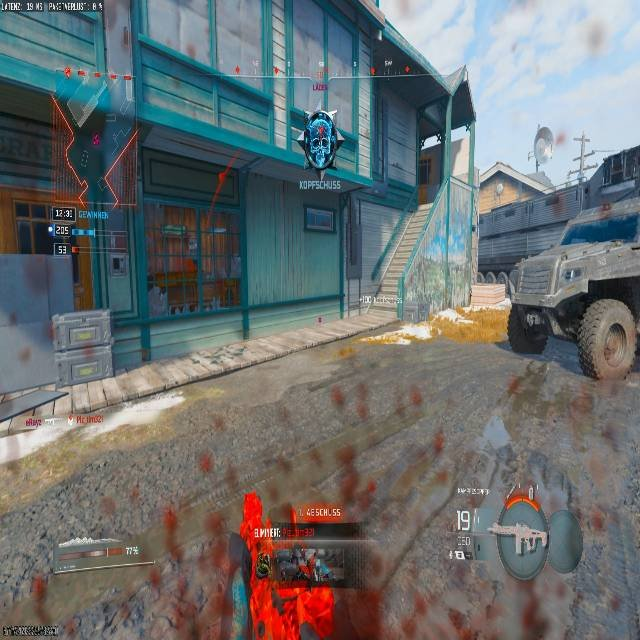player: (296, 109, 341, 169)
